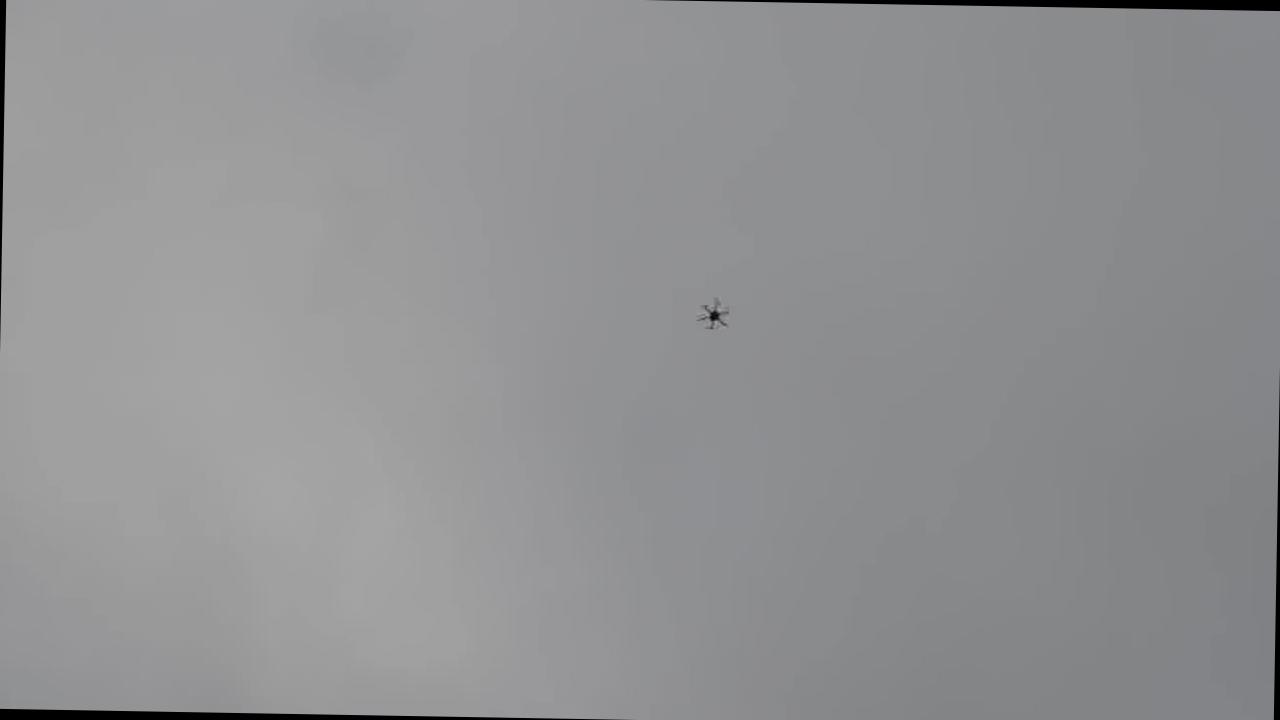drone: (696, 292, 736, 329)
